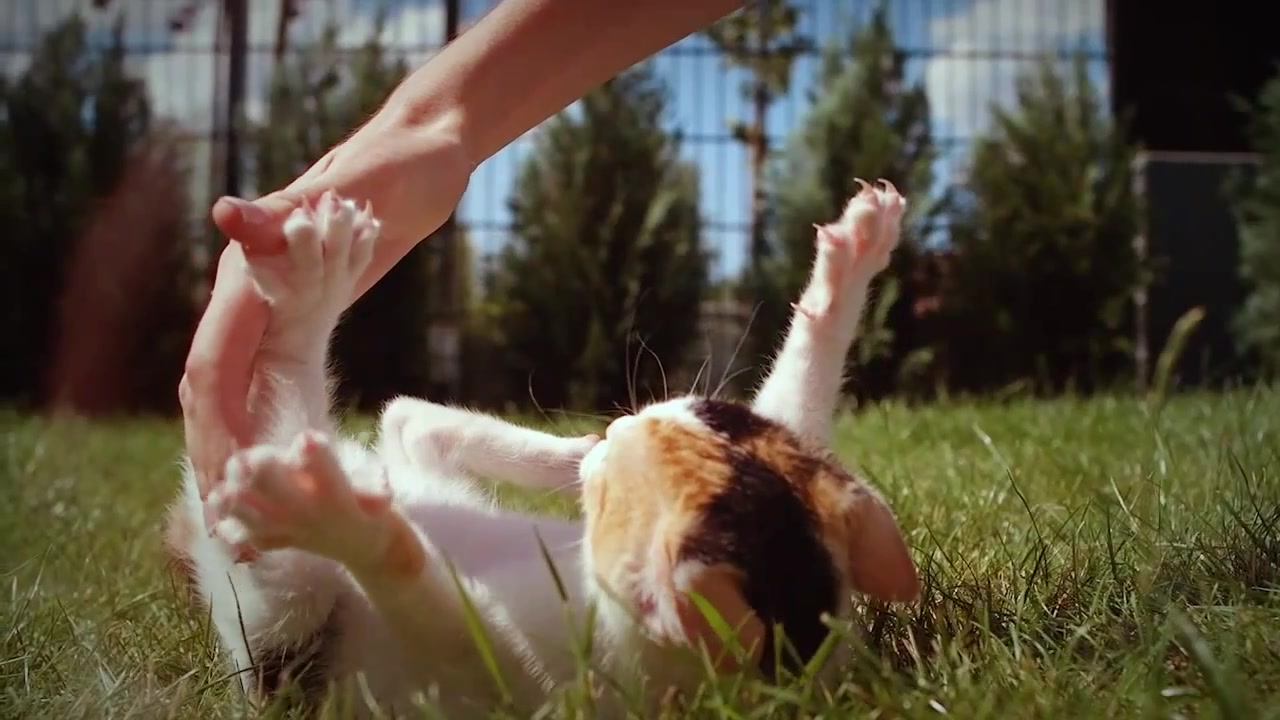cat: (160, 182, 932, 708)
